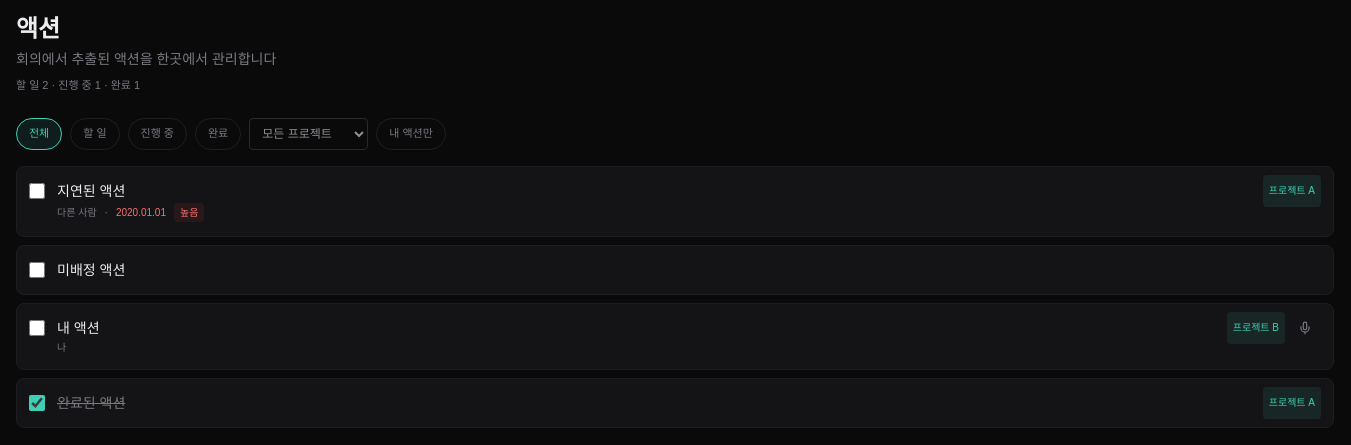
ActionBoard › 필터 결과만 비어 있으면 CTA 없이 필터 안내를 렌더한다
Click the tab with test id "action-status-filter-done".
click(218, 134)  # box [195, 118, 241, 150]
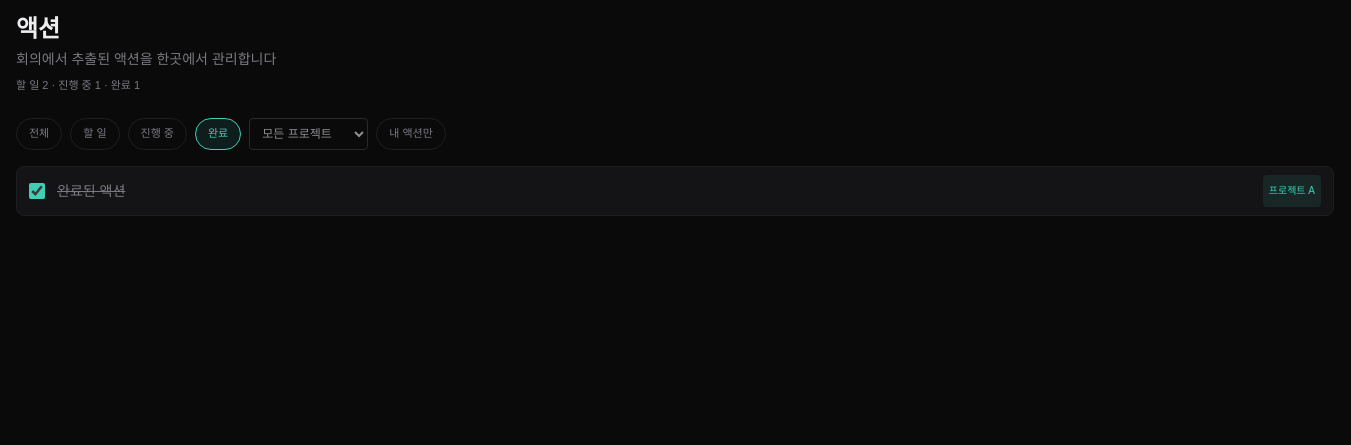
Click the button with test id "action-mine-filter".
click(411, 134)  # box [376, 118, 446, 150]
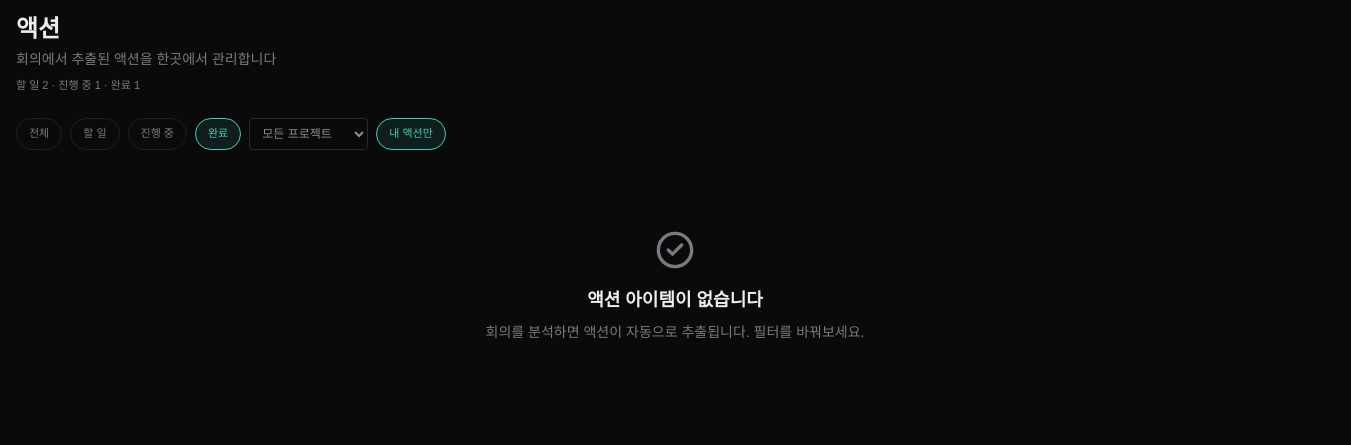
Expected: the text "회의를 분석하면 액션이 자동으로 추출됩니다. 필터를 바꿔보세요." is shown, [486, 322, 864, 342]
